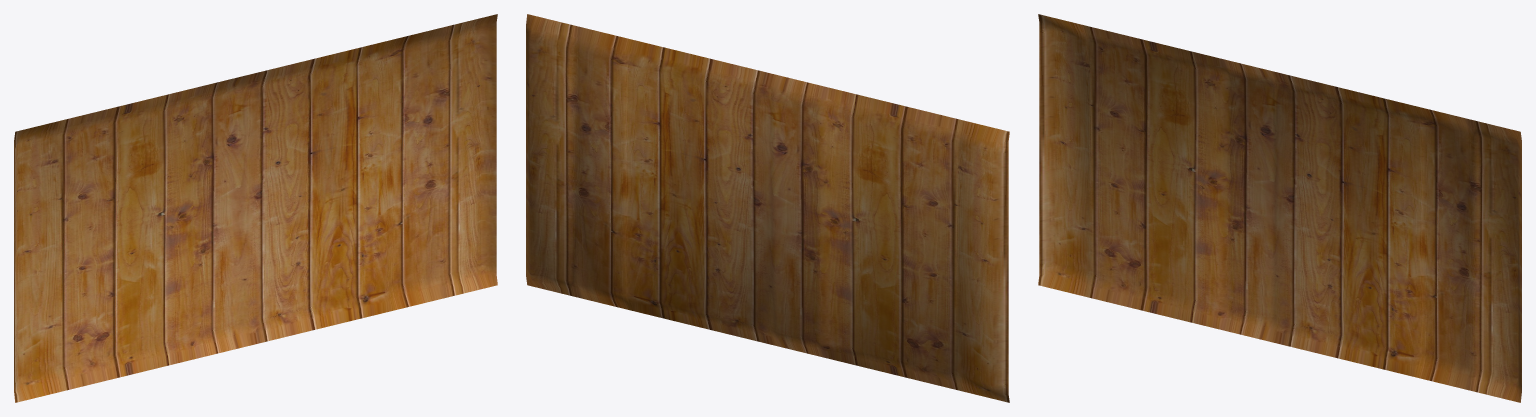
File: woodWall.fbx
3 renders of one model, left to right at view 1: azimuth 30°, elevation 25°; view 2: azimuth 150°, elevation 25°; view 3: azimuth 330°, elevation 25°, orthographic.
Parts seen in each view (by area): view 1: WoodWall_LOD0; view 2: WoodWall_LOD0; view 3: WoodWall_LOD0.
Part boxes in pixels (x1,y1,x2,y2): WoodWall_LOD0: (14, 14, 497, 402); WoodWall_LOD0: (526, 14, 1009, 402); WoodWall_LOD0: (1038, 14, 1521, 402).
Size of what is drawn, in the model's own units: 500 by 269 by 12.1.
Materials: 1 (1 with a texture image).
